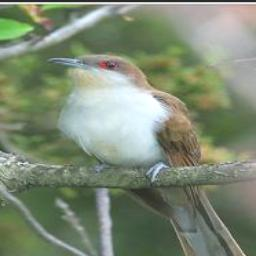Cuckoo: (44, 52, 256, 256)
